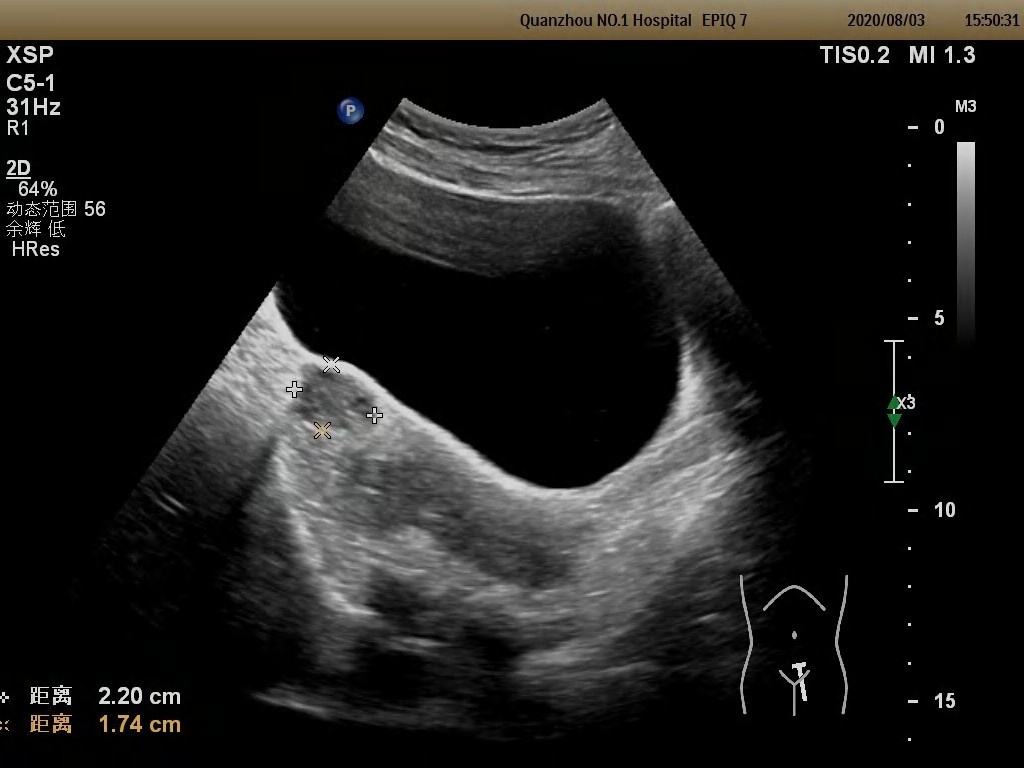肌瘤: (294, 370, 373, 433)
